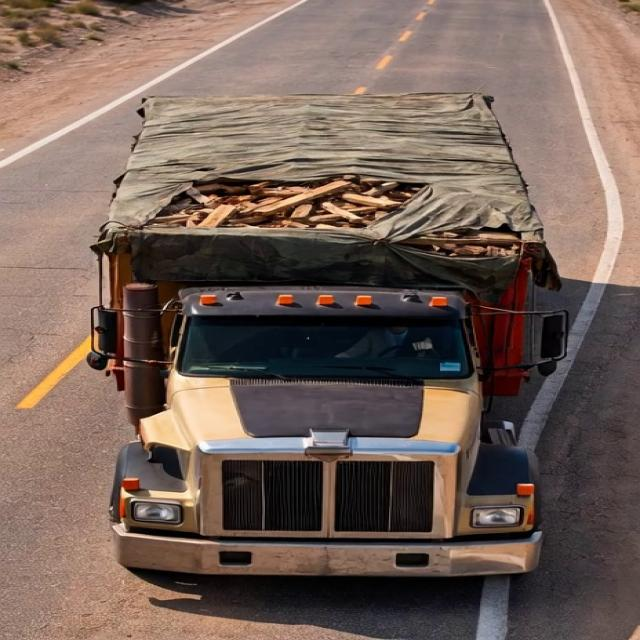trailer: (103, 83, 569, 260)
truck: (68, 72, 591, 594)
